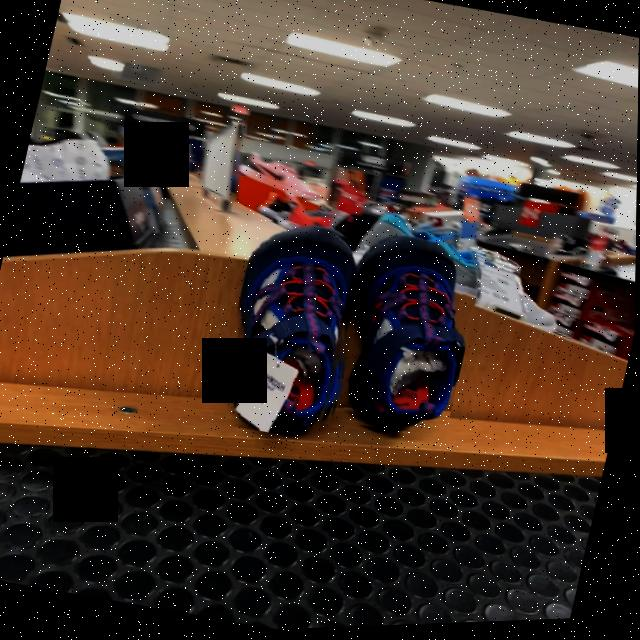shoe: (233, 232, 357, 439), (349, 240, 466, 432)
